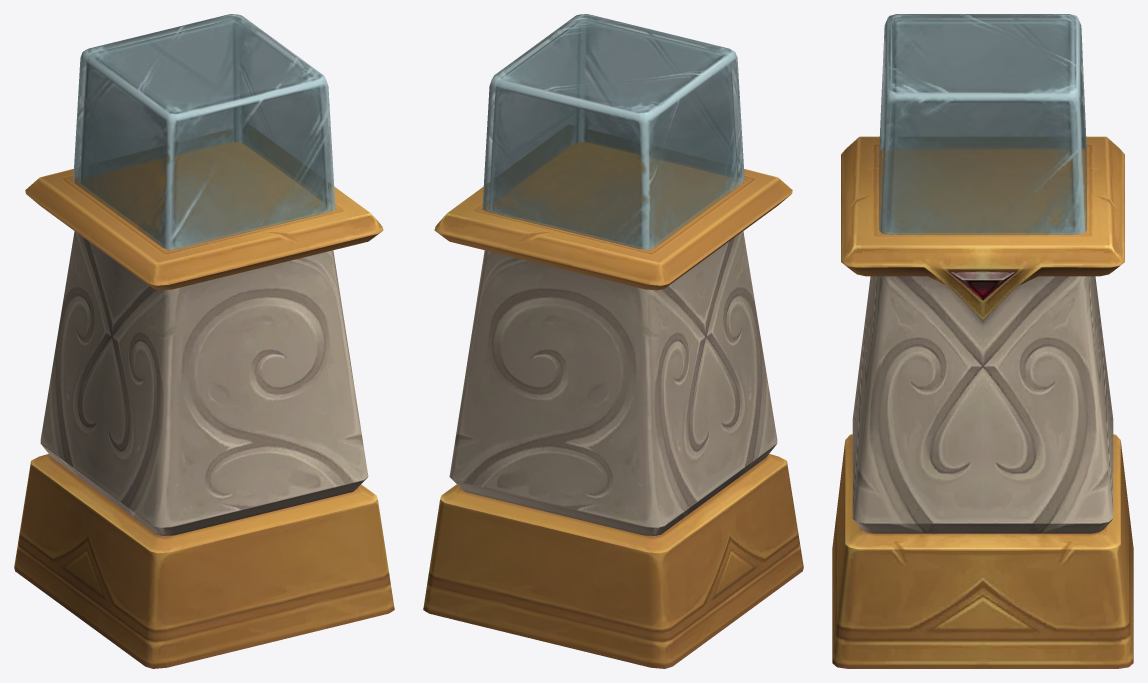
3 renders of one model, left to right at view 1: azimuth 30°, elevation 25°; view 2: azimuth 150°, elevation 25°; view 3: azimuth 270°, elevation 25°, orthographic. The views are drawn at different scales.
Size of the model in its own units: 0.7557 by 1.53 by 0.7557.
3 materials, 3 textured.
